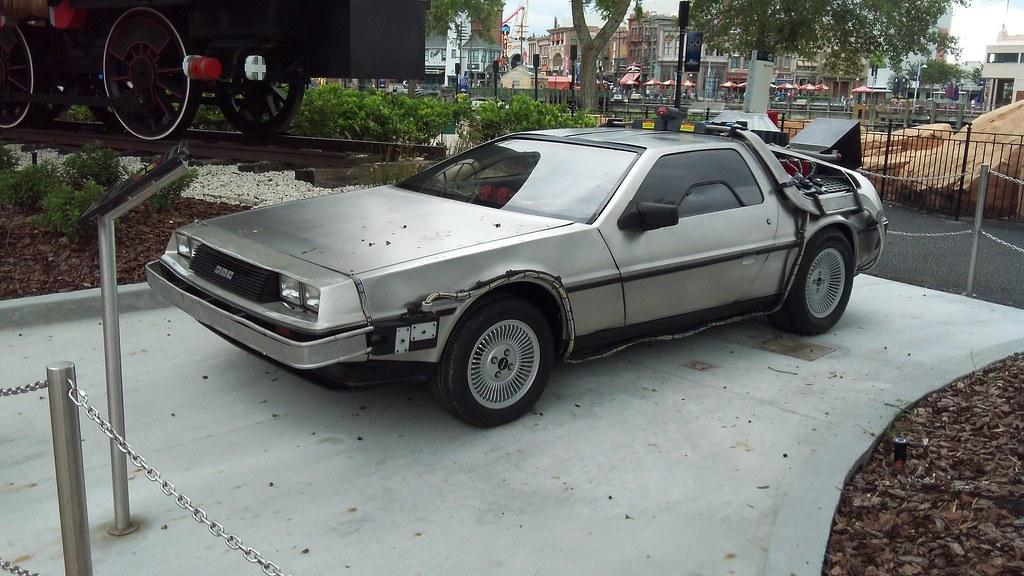car: (146, 109, 889, 429)
